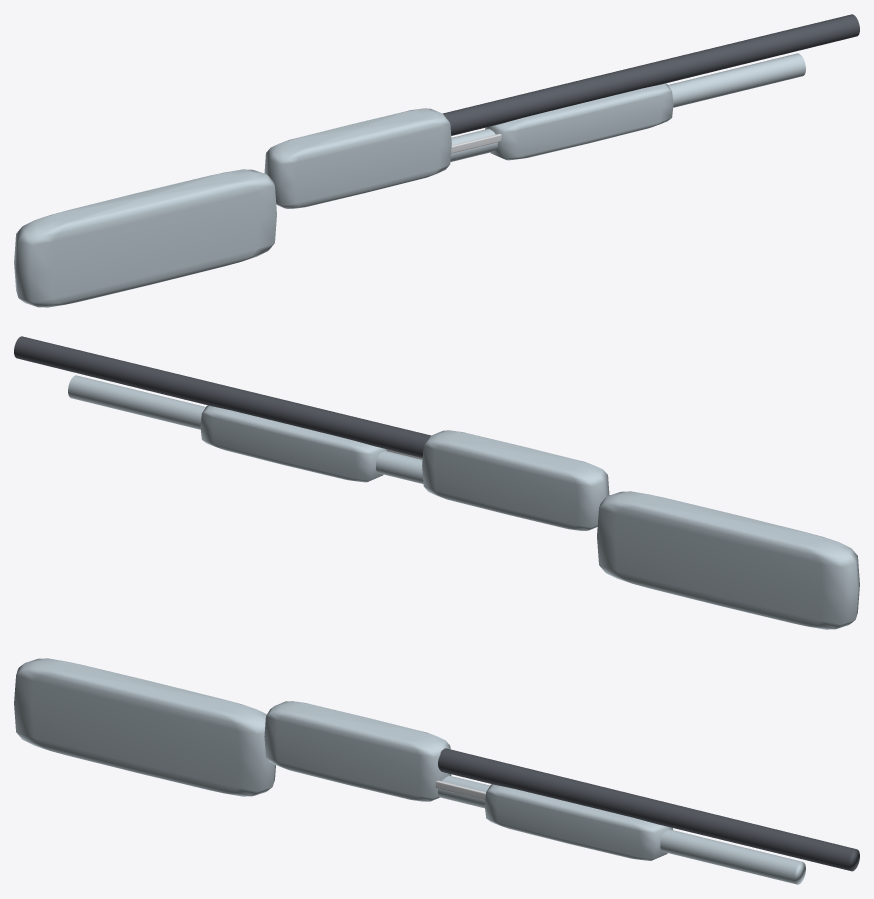
Rendered from fort500-gls.glb.
The picture shows the model from 3 angles, top to bottom: view 1: azimuth 30°, elevation 25°; view 2: azimuth 150°, elevation 25°; view 3: azimuth 330°, elevation 25°; orthographic projection.
Visible parts, largest first — view 1: stock_tactical, receiver_12ga, barrel_510mm, pump_forend, mag_tube_12ga; view 2: stock_tactical, receiver_12ga, barrel_510mm, pump_forend, mag_tube_12ga; view 3: stock_tactical, receiver_12ga, barrel_510mm, pump_forend, mag_tube_12ga.
Part boxes in pixels (x1=…): stock_tactical: x1=14, y1=169, x2=276, y2=307; receiver_12ga: x1=264, y1=108, x2=451, y2=208; barrel_510mm: x1=442, y1=14, x2=859, y2=135; pump_forend: x1=485, y1=83, x2=673, y2=160; mag_tube_12ga: x1=450, y1=53, x2=805, y2=161; stock_tactical: x1=597, y1=491, x2=859, y2=629; receiver_12ga: x1=422, y1=430, x2=609, y2=530; barrel_510mm: x1=14, y1=336, x2=431, y2=457; pump_forend: x1=200, y1=405, x2=386, y2=482; mag_tube_12ga: x1=68, y1=375, x2=423, y2=483; stock_tactical: x1=14, y1=658, x2=275, y2=796; receiver_12ga: x1=264, y1=701, x2=451, y2=801; barrel_510mm: x1=438, y1=748, x2=859, y2=871; pump_forend: x1=484, y1=784, x2=672, y2=860; mag_tube_12ga: x1=438, y1=775, x2=805, y2=884.
Bounding box in the file's own units: 1 × 0.1135 × 0.046.
